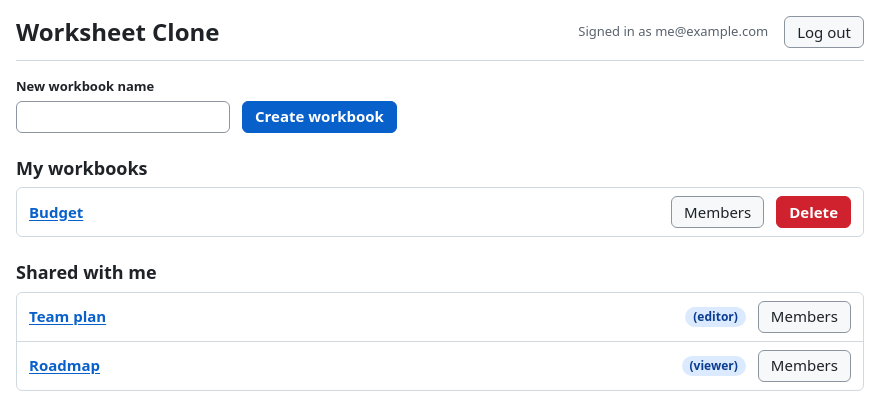
Test: WorkbooksPage › creates a workbook and clears the input
Type "Q4 forecast" into the field labelled "New workbook name" at (123, 116), box [16,100,230,132]
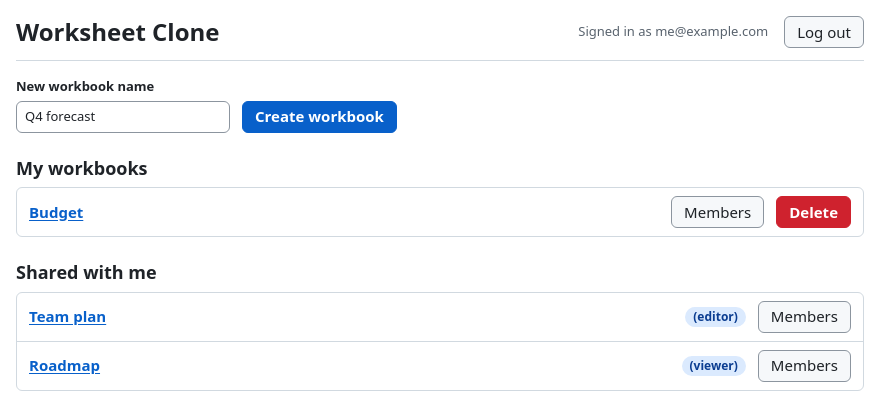
Click the button "Create workbook" at (319, 116), box [242,100,397,132]
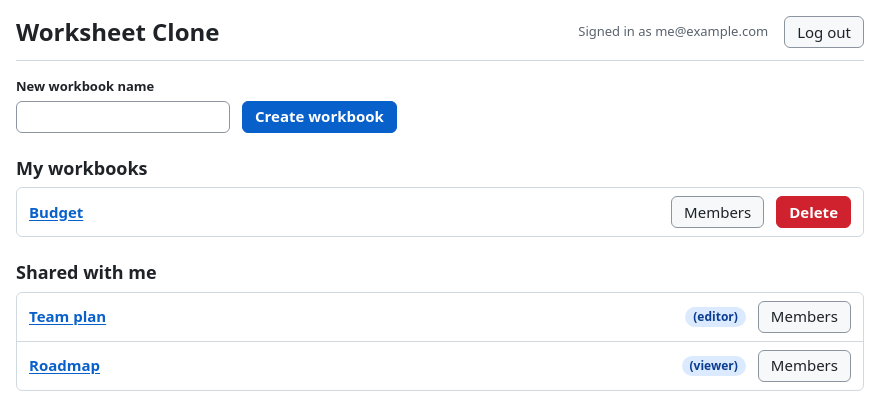
Expected: the field labelled "New workbook name" is empty, [16,100,230,132]
